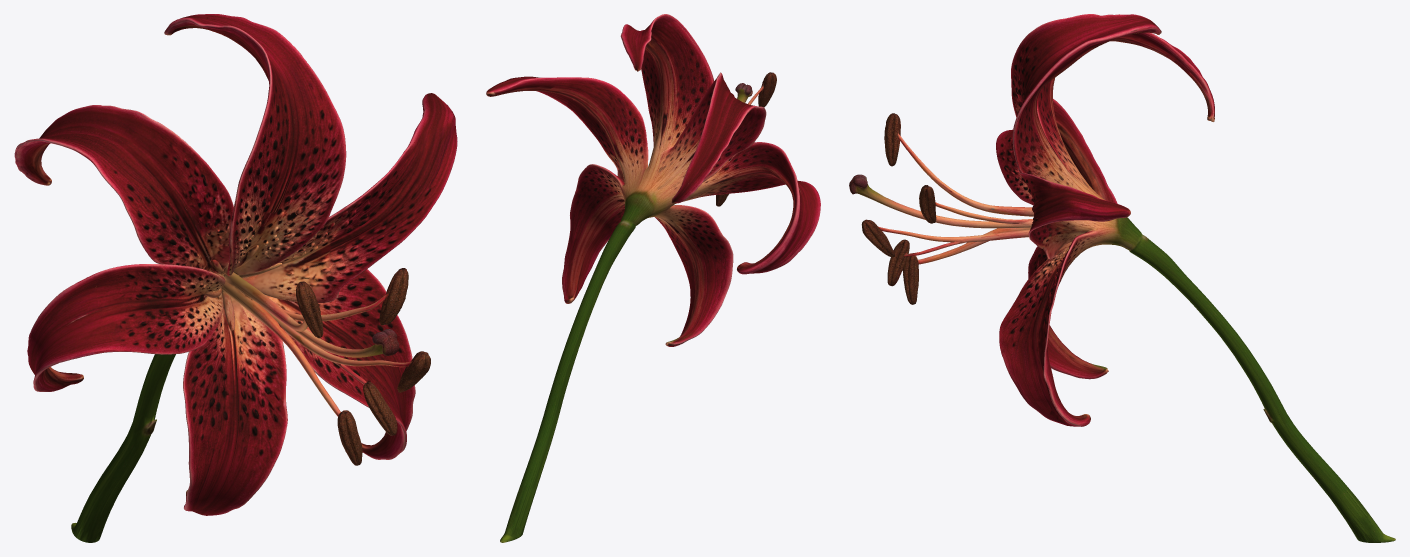
File: crimson-tiger-lily.glb
3 views of the same model, side by side, from view 1: azimuth 30°, elevation 25°; view 2: azimuth 150°, elevation 25°; view 3: azimuth 270°, elevation 25° (orthographic). The views are drawn at different scales.
Size of the model in its own units: 1.37 by 1.9 by 1.84.
Materials: 1 (1 with a texture image).
